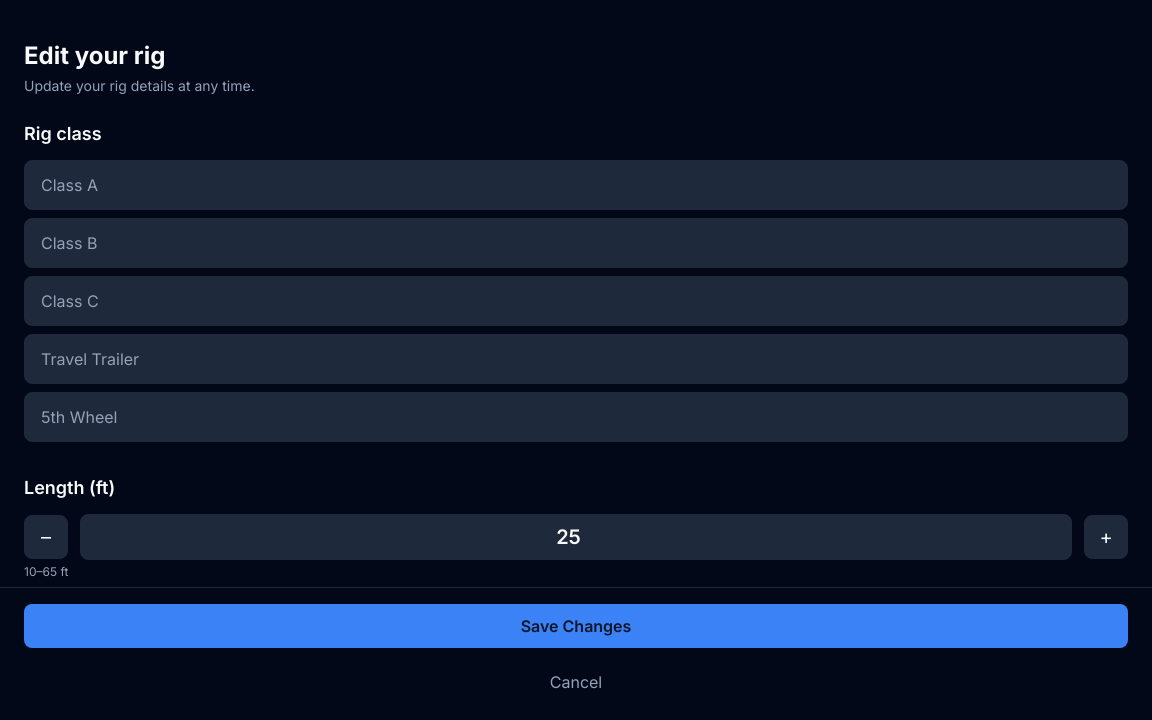
RigEditScreen › shows validation error when Save Changes is clicked with no rig class selected
Click the button "Save Changes". click: point(576, 626)
box: [24,604,1128,648]
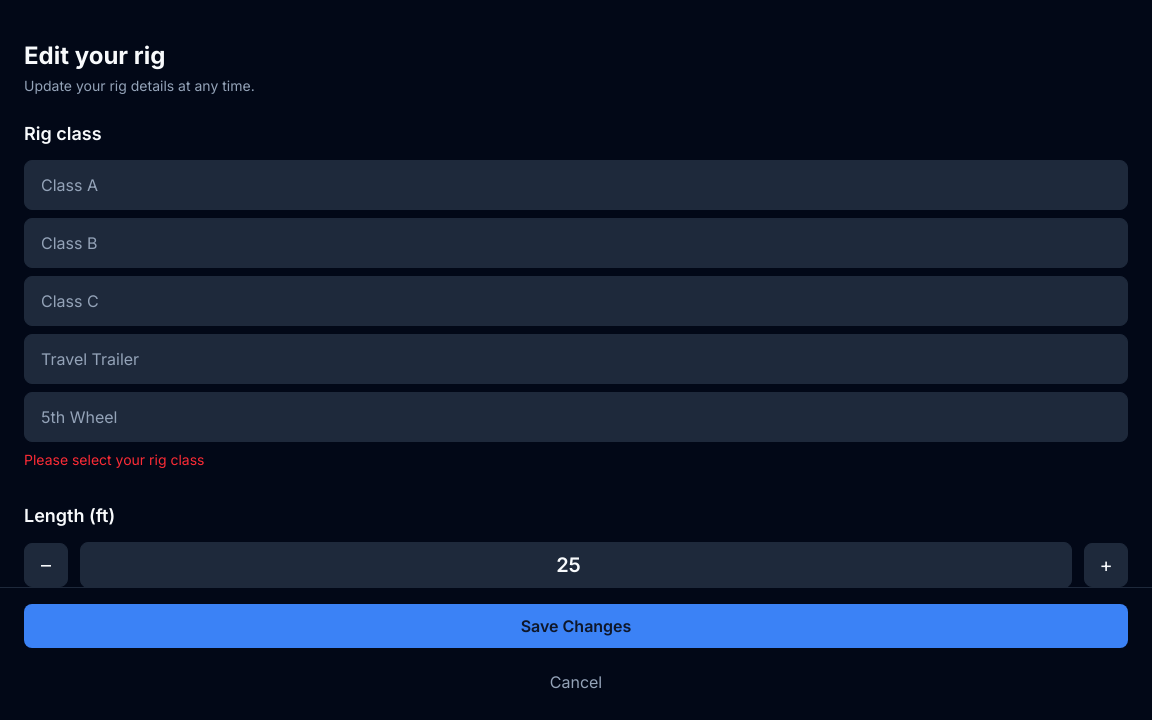
Check: the message reads "Please select your rig class", box [24,451,204,468]
